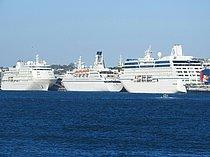Ship: (118, 43, 210, 95), (62, 50, 127, 94), (2, 52, 64, 93)
